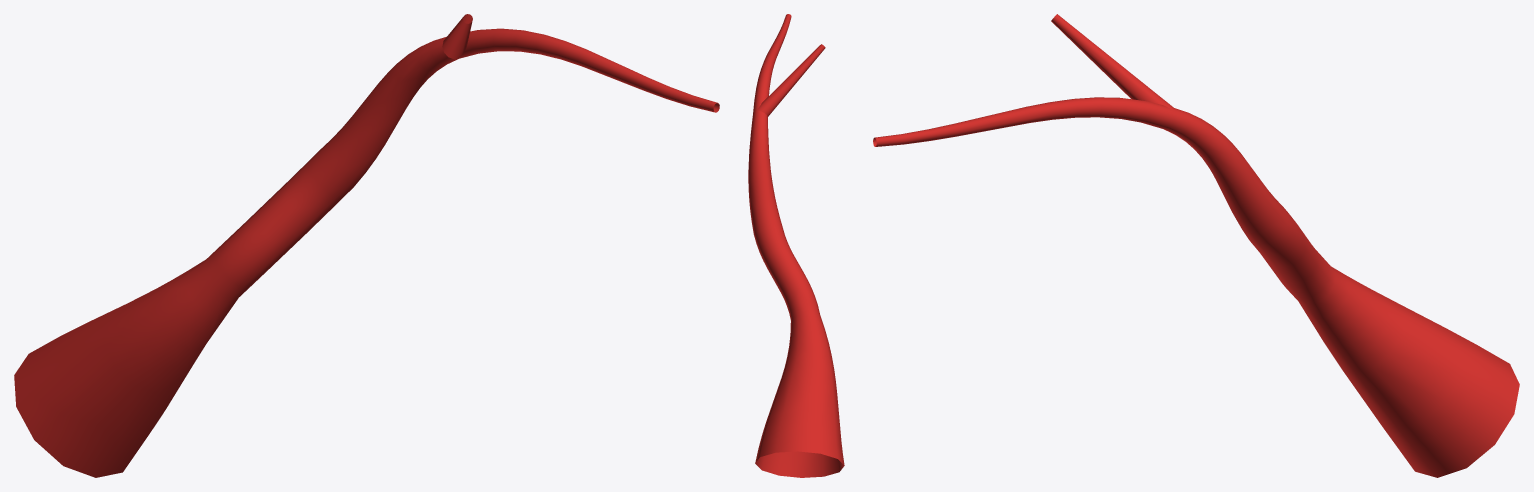
Rendered from circulatorio-left-gastric-artery.glb.
3 views of the same model, side by side, from view 1: azimuth 30°, elevation 25°; view 2: azimuth 150°, elevation 25°; view 3: azimuth 270°, elevation 25° (orthographic). The views are drawn at different scales.
Visible parts, largest first — view 1: Left gastric artery; view 2: Left gastric artery; view 3: Left gastric artery.
Boxes of the visible parts, x1=… form: Left gastric artery: x1=14, y1=14, x2=719, y2=477; Left gastric artery: x1=748, y1=14, x2=844, y2=477; Left gastric artery: x1=873, y1=14, x2=1519, y2=477.
Size of the model in its own units: 0.018 by 0.0244 by 0.027.
